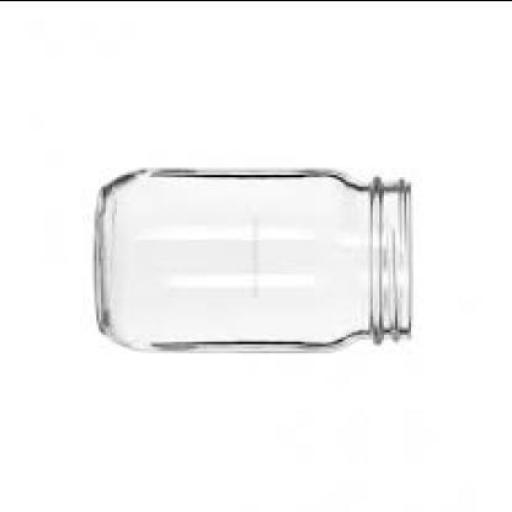glass: (96, 167, 414, 352)
